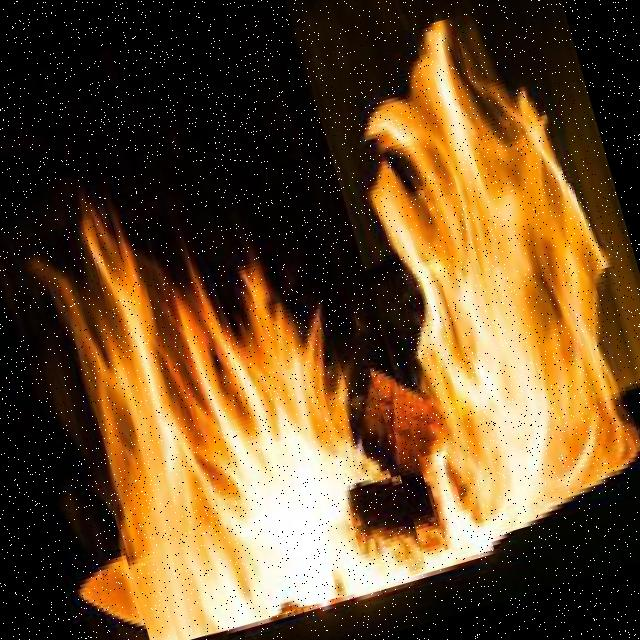fire: (32, 154, 427, 640), (303, 0, 640, 549)
